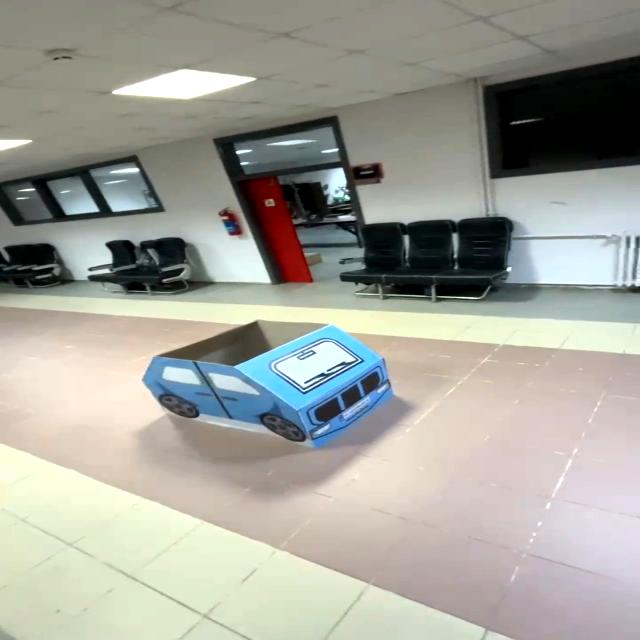blue_car: (118, 303, 420, 473)
